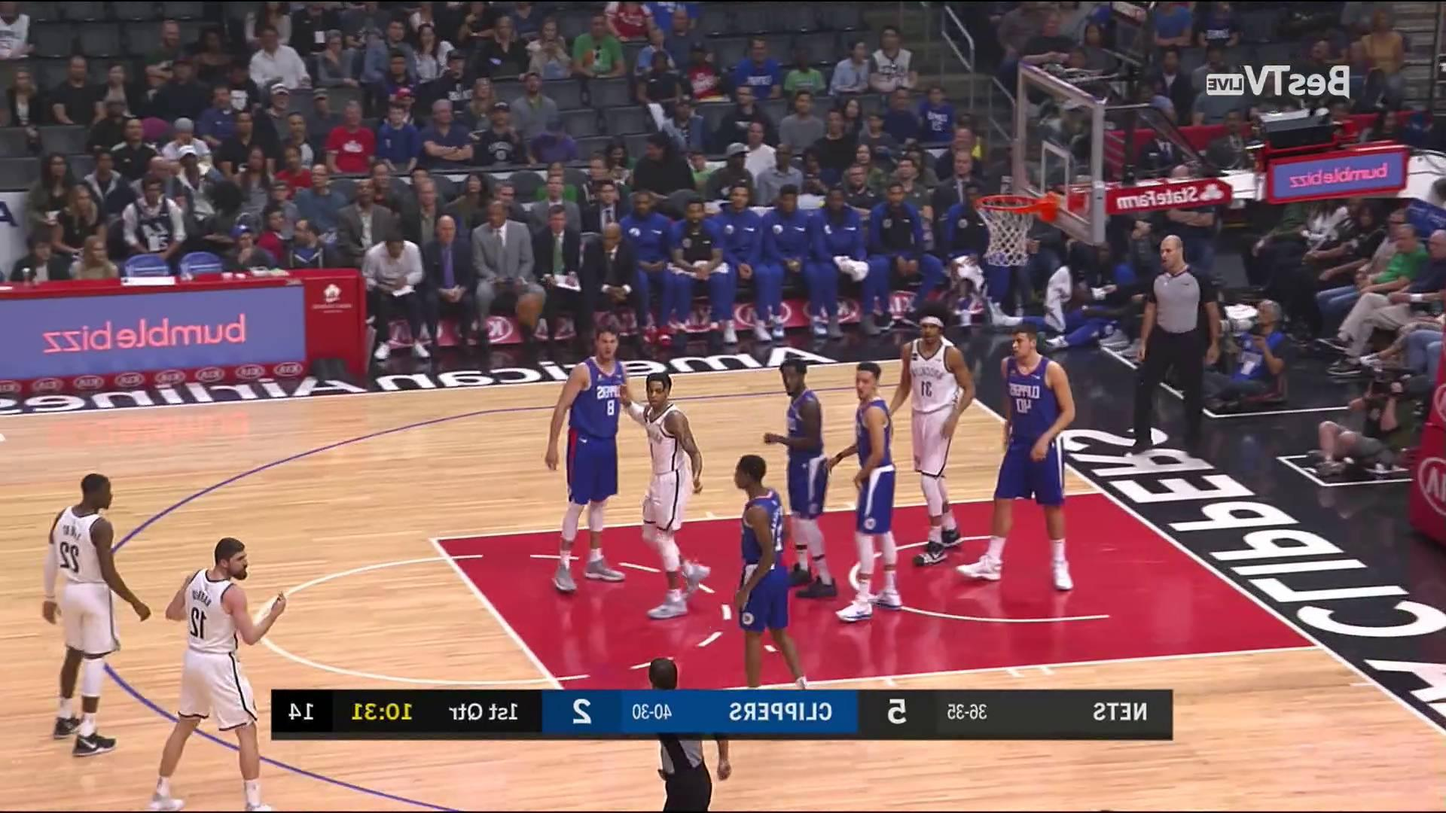basketball: (516, 299, 540, 325)
